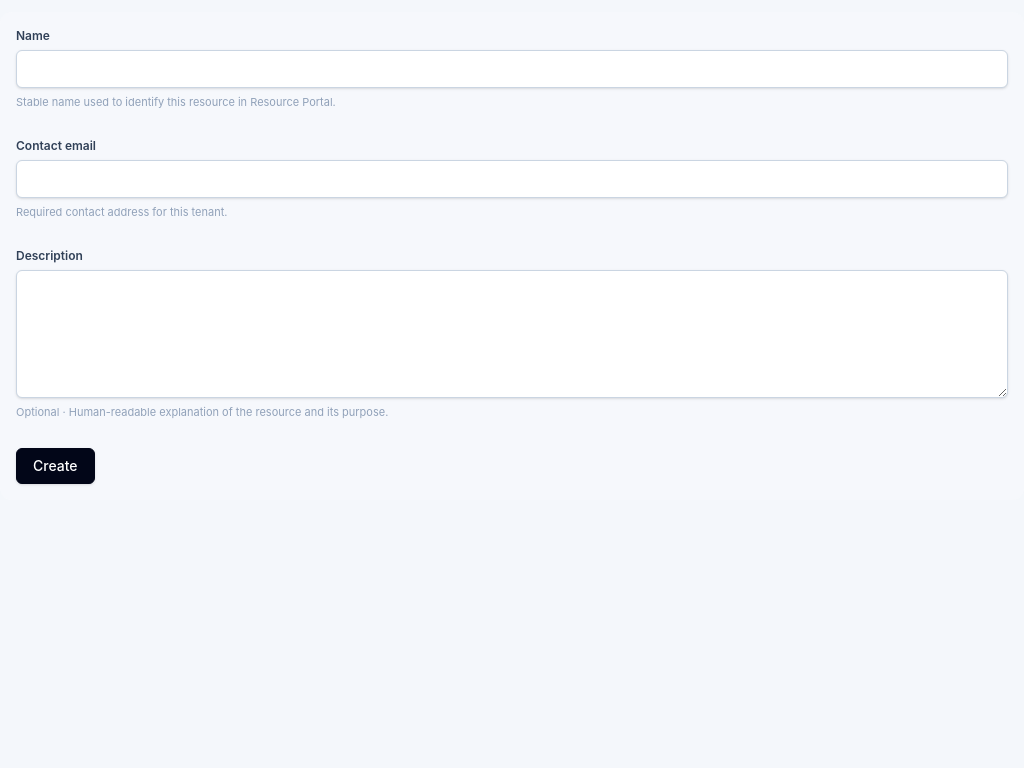
Test: functional Stage 20 forms › live-validates the production fallback and identifies optional fields
Expected: the text "Optional · Human-readable explanation" is shown, [16, 405, 388, 419]
Type "broken-address" into the field labelled "Contact email".
click(512, 179); type("broken-address")  # box [16, 160, 1008, 198]
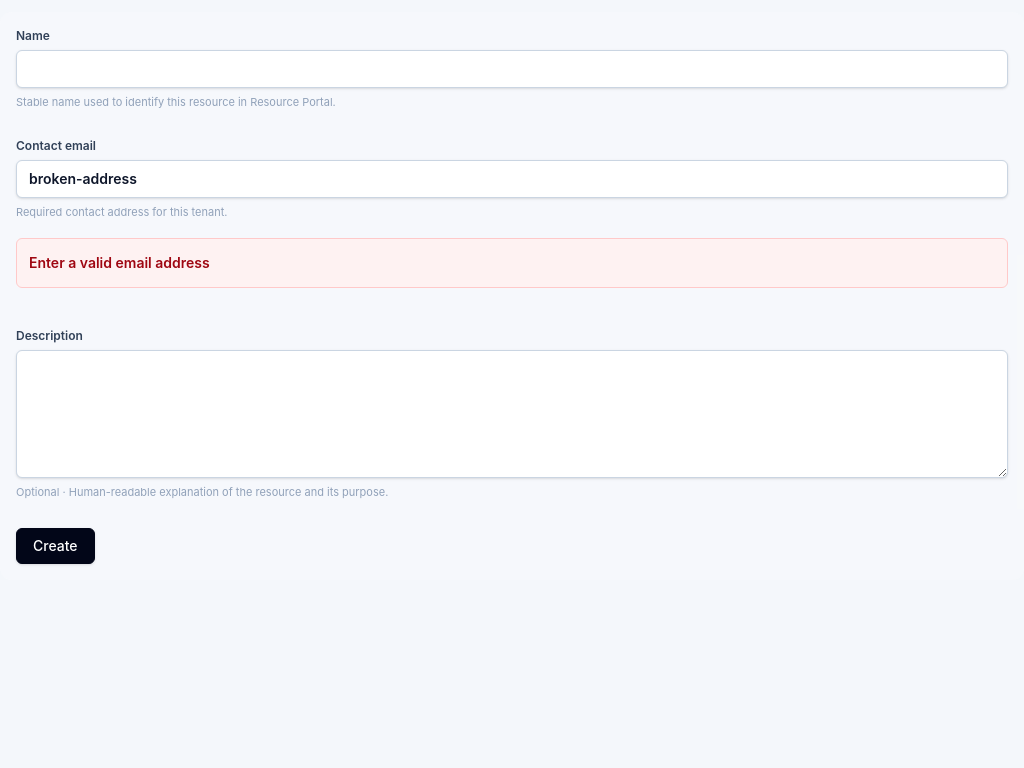
Now the message shows "valid email", box [29, 254, 210, 271]
Replace the text in the field labelled "Contact email" with "owner@example.test" at (512, 179), box [16, 160, 1008, 198]
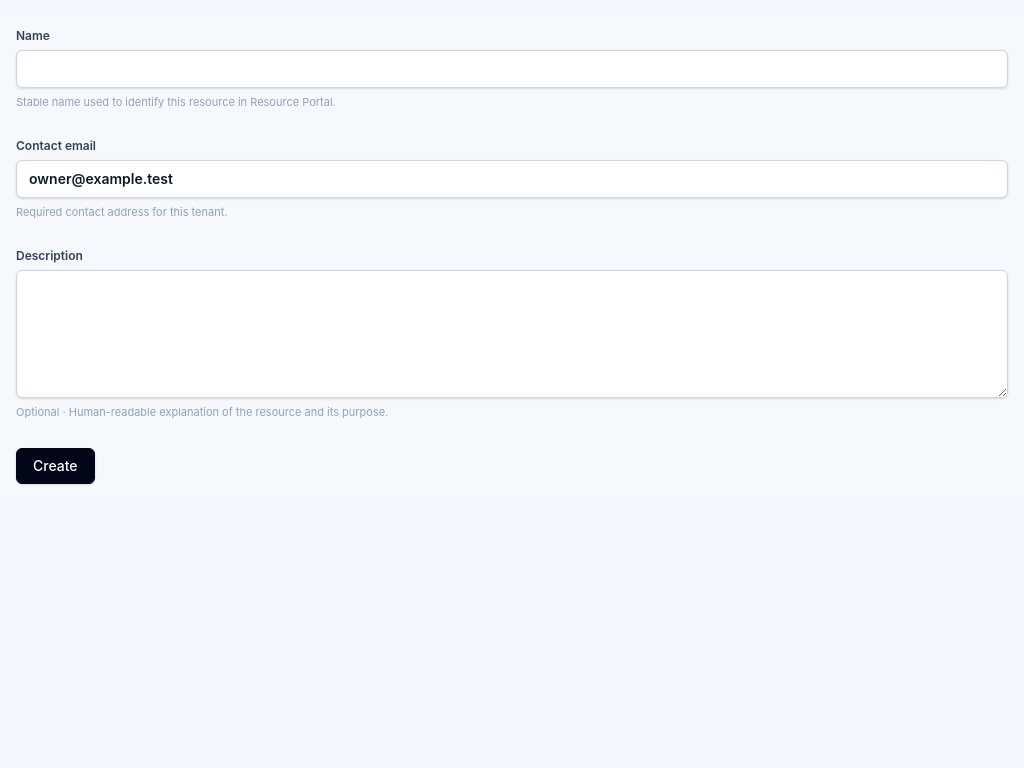
Now the message "Enter a valid email address" is gone
Click the button "Create".
click(55, 466)  # box [16, 448, 95, 484]
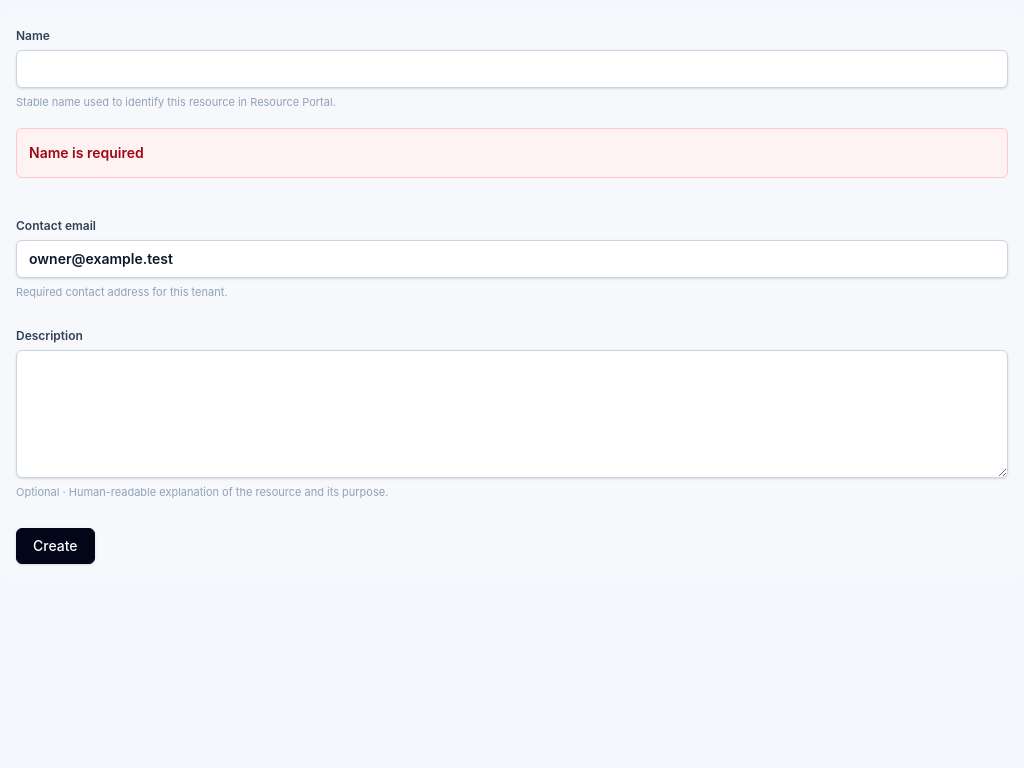
Now the message reads "Name is required", box [29, 144, 144, 161]
